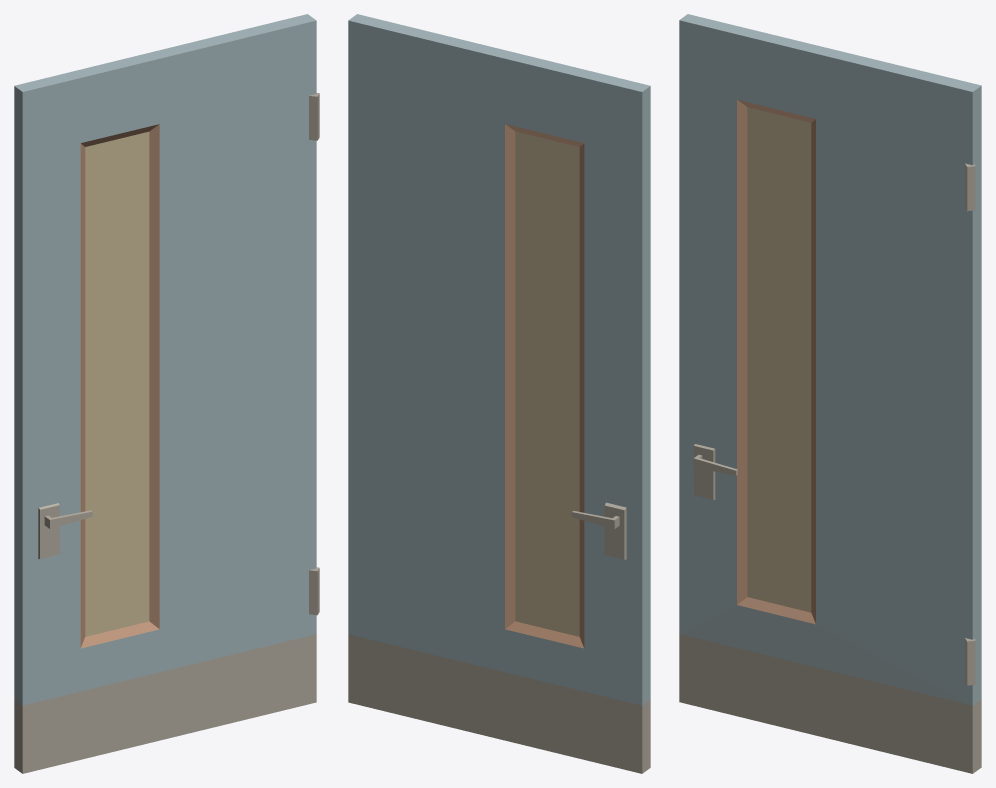
The model's file is SM_Door_A1.fbx.
3 renders of one model, left to right at view 1: azimuth 30°, elevation 25°; view 2: azimuth 150°, elevation 25°; view 3: azimuth 330°, elevation 25°, orthographic.
Visible parts, largest first — view 1: SM_Door_A1; view 2: SM_Door_A1; view 3: SM_Door_A1.
Part boxes in pixels (<box>): SM_Door_A1: <box>14,14,319,773</box>; SM_Door_A1: <box>348,14,650,773</box>; SM_Door_A1: <box>679,14,981,773</box>.
Size of the model in its own units: 112 by 245 by 14.38.
